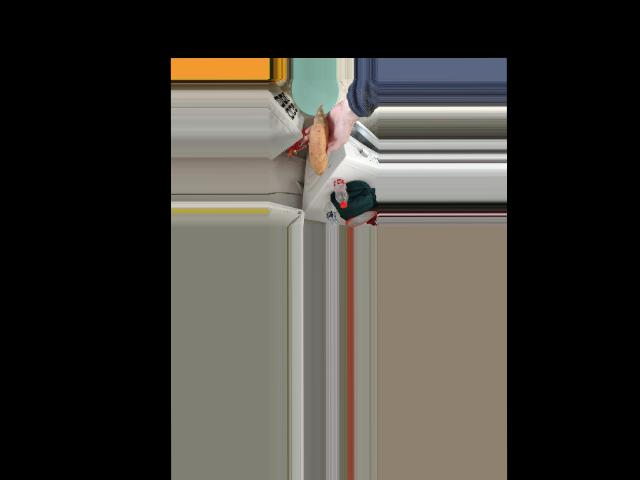sweet_potato: (311, 118, 333, 166)
